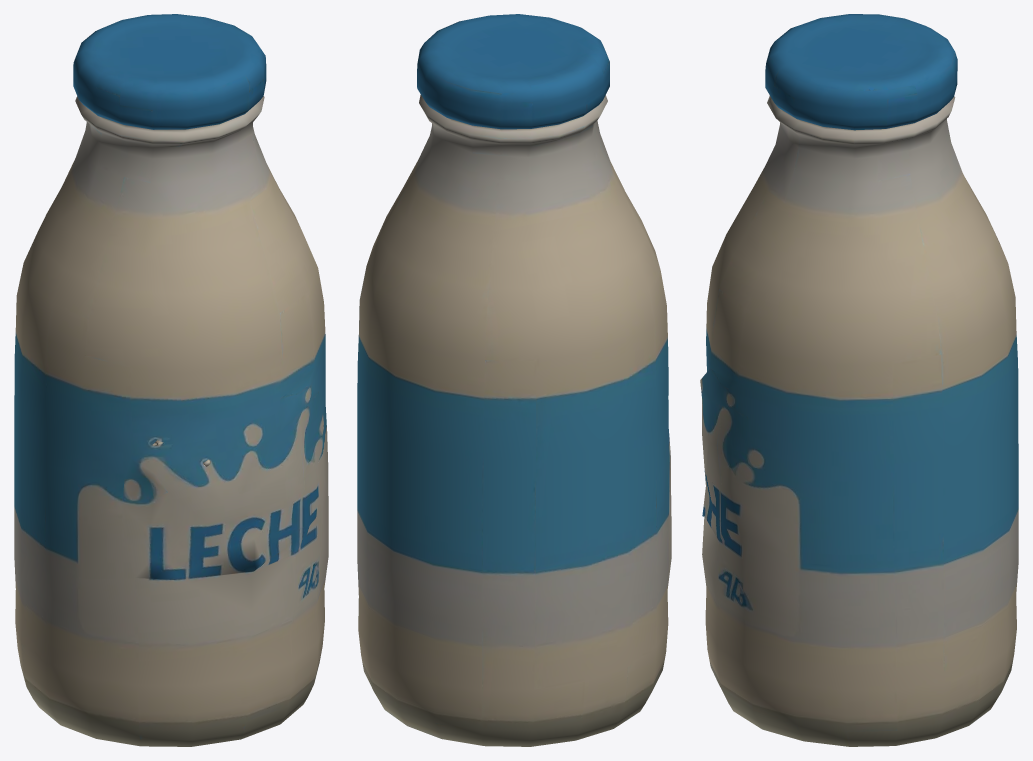
File: product-milk.glb
3 renders of one model, left to right at view 1: azimuth 30°, elevation 25°; view 2: azimuth 150°, elevation 25°; view 3: azimuth 270°, elevation 25°, orthographic.
Parts seen in each view (by area): view 1: n4; view 2: n4; view 3: n4.
Part boxes in pixels (box(x1,y1,x2,y2)): n4: box(14, 14, 328, 746); n4: box(357, 14, 671, 746); n4: box(700, 14, 1018, 746).
Size of the model in its own units: 0.1135 by 0.26 by 0.1166.
1 material, 1 textured.
